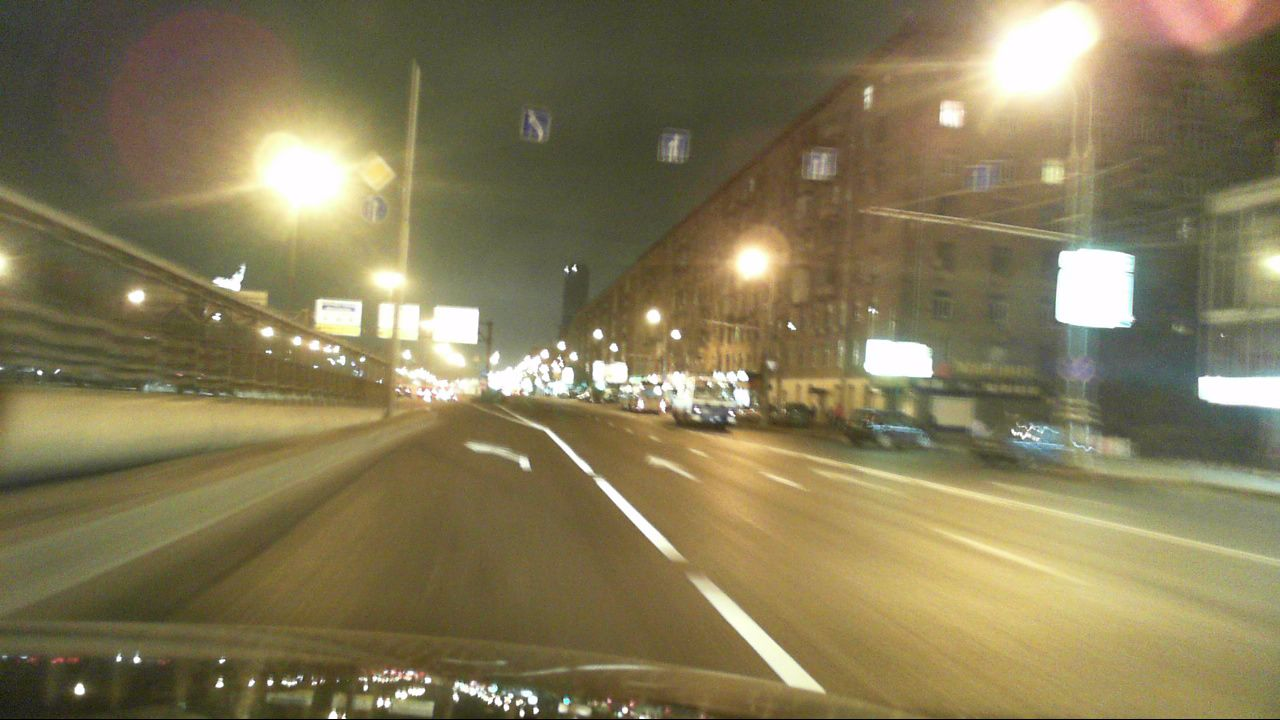No Parking: (1070, 356, 1095, 382)
